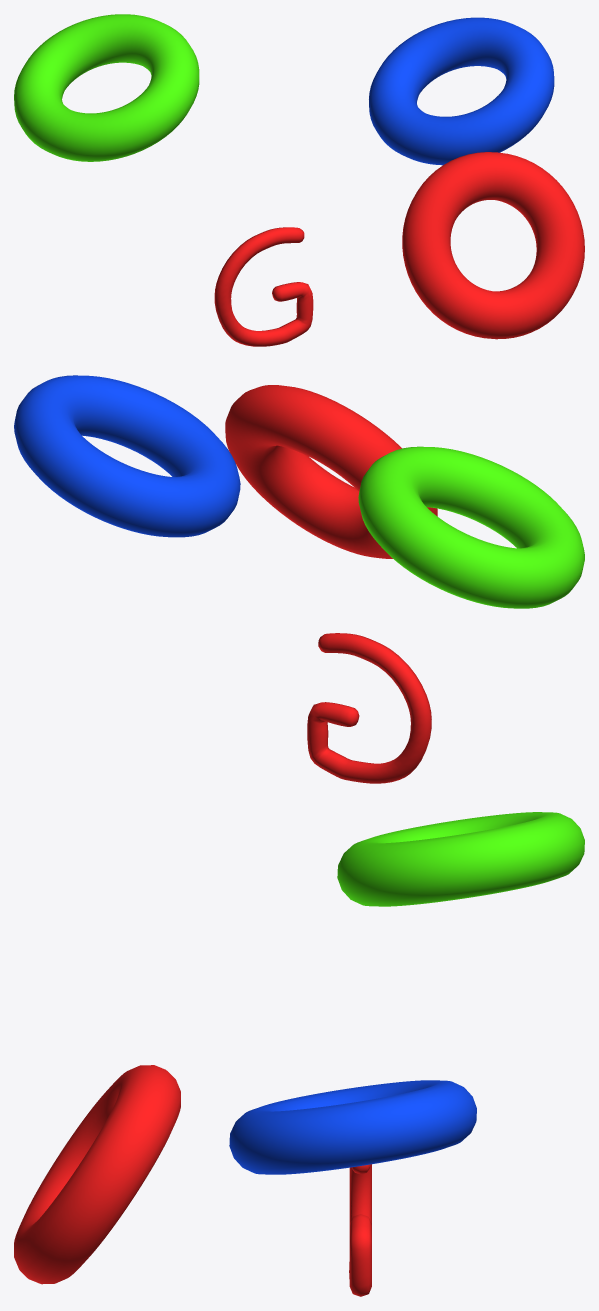
File: Objecte2.obj
3 views of the same model, one above another, from view 1: azimuth 30°, elevation 25°; view 2: azimuth 150°, elevation 25°; view 3: azimuth 270°, elevation 25° (orthographic). The views are drawn at different scales.
Parts seen in each view (by area): view 1: Text.001; view 2: Text.001; view 3: Text.001.
Part boxes in pixels (<box>): Text.001: <box>14,14,584,346</box>; Text.001: <box>14,375,584,783</box>; Text.001: <box>14,812,584,1296</box>.
Size of the model in its own units: 5.15 by 3.21 by 4.1.
Materials: 1 (1 with a texture image).
